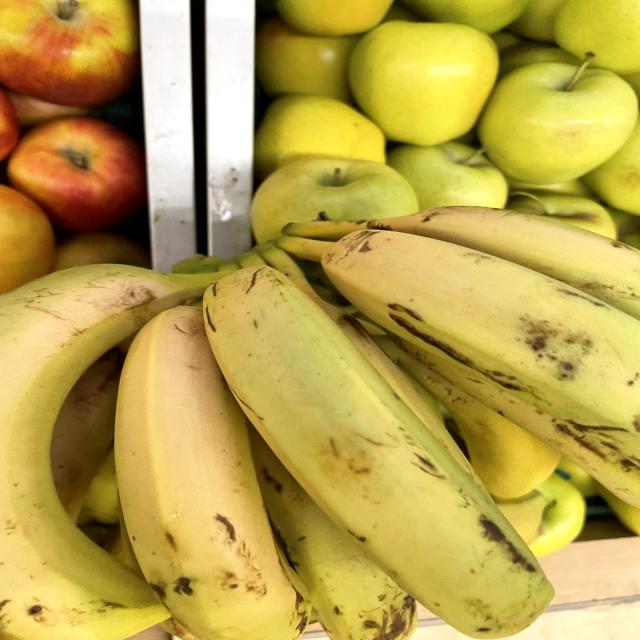banana: (210, 258, 562, 640)
